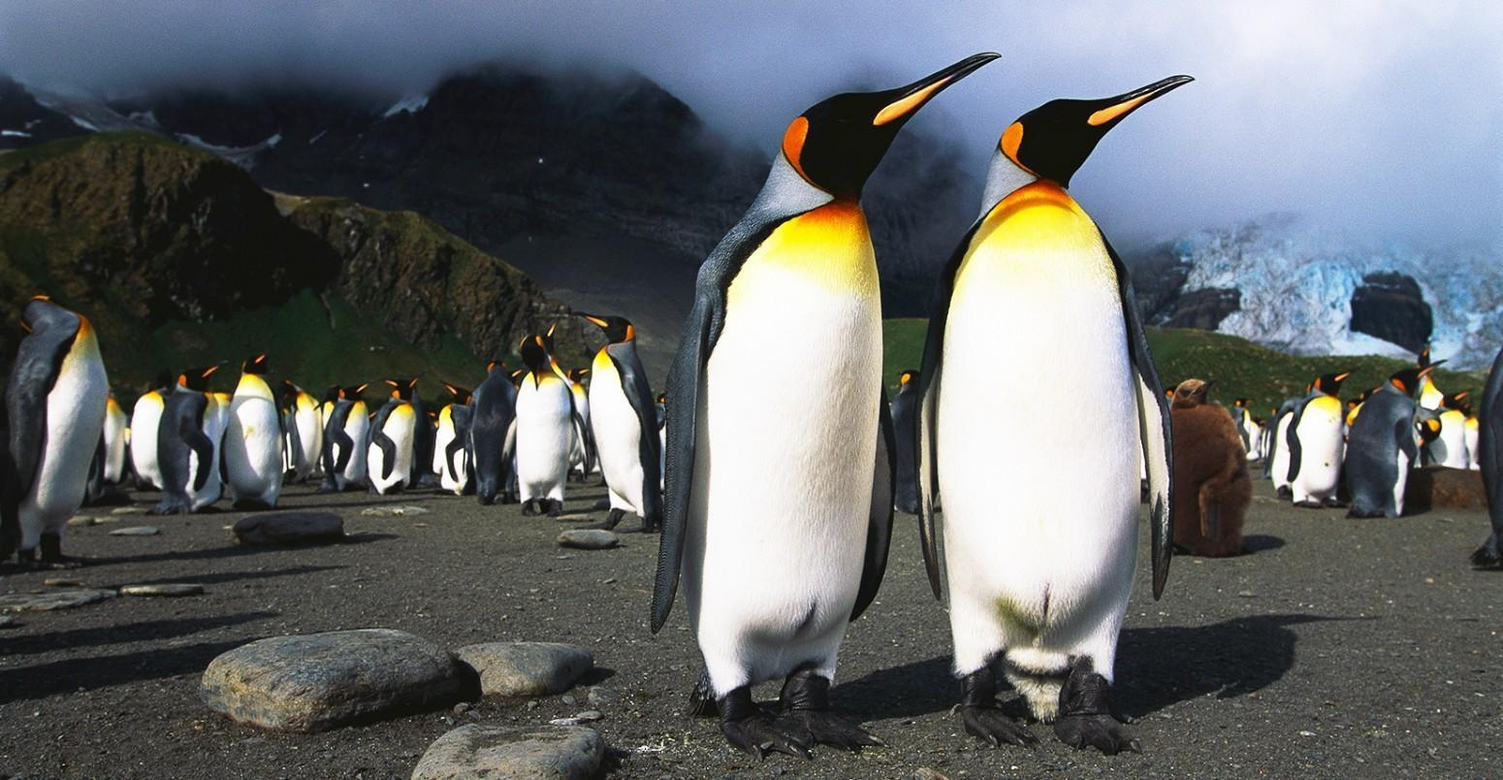Penguin: (652, 52, 996, 757), (919, 77, 1191, 755), (0, 297, 109, 567), (583, 314, 663, 532), (502, 335, 590, 516), (1171, 379, 1253, 558), (1345, 367, 1418, 514), (152, 364, 216, 511), (223, 355, 281, 510), (1289, 370, 1352, 507), (544, 312, 588, 473), (467, 360, 515, 506), (883, 368, 921, 522), (367, 379, 416, 495), (1264, 381, 1313, 497), (124, 367, 169, 492), (320, 382, 369, 489), (434, 385, 475, 494), (92, 386, 129, 504), (1414, 339, 1445, 426), (1437, 384, 1466, 472), (411, 408, 440, 491), (1456, 401, 1488, 474), (1410, 404, 1442, 473), (1231, 397, 1249, 462), (1250, 418, 1265, 462), (1344, 396, 1357, 438), (1164, 383, 1174, 425), (1356, 385, 1382, 401), (569, 367, 589, 385)
